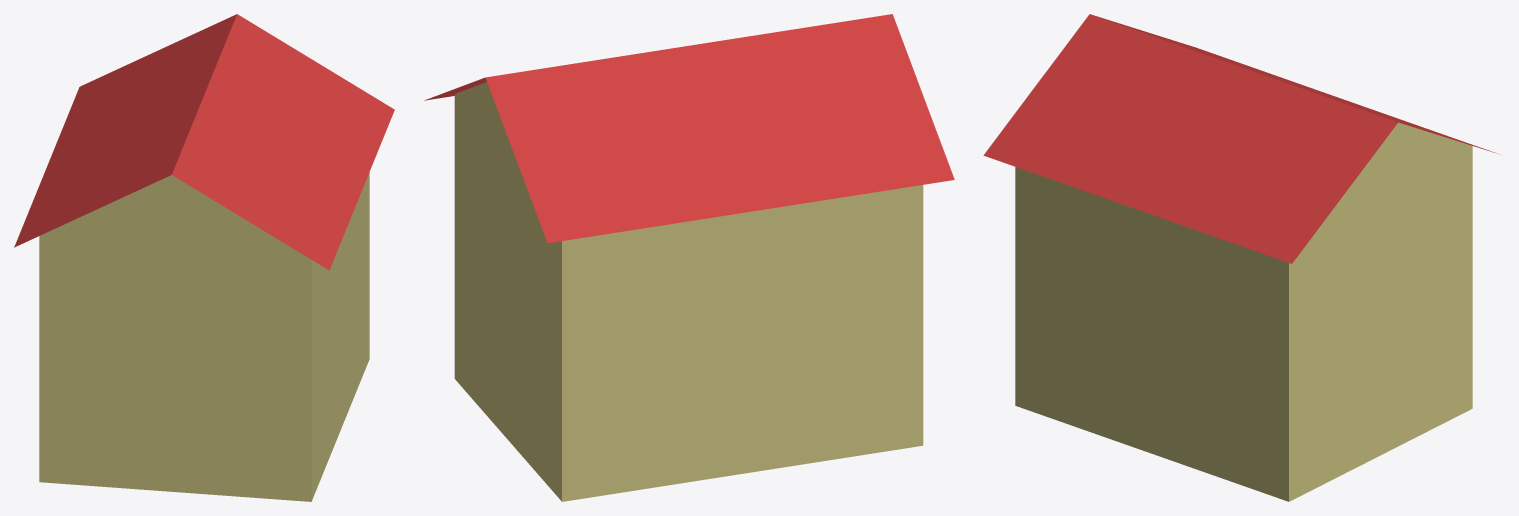
The picture shows the model from 3 angles, left to right: view 1: azimuth 30°, elevation 25°; view 2: azimuth 150°, elevation 25°; view 3: azimuth 270°, elevation 25°; orthographic projection. The views are drawn at different scales.
Parts seen in each view (by area): view 1: group_5, group_3, group_4; view 2: group_5, group_3, group_4; view 3: group_5, group_3, group_4.
Part boxes in pixels (left/top/right/bottom): group_5: left=39, top=172, right=369, bottom=501; group_3: left=39, top=14, right=394, bottom=269; group_4: left=14, top=14, right=352, bottom=270; group_5: left=454, top=82, right=923, bottom=501; group_3: left=463, top=14, right=922, bottom=242; group_4: left=424, top=14, right=954, bottom=243; group_5: left=1015, top=122, right=1472, bottom=501; group_3: left=984, top=16, right=1499, bottom=263; group_4: left=983, top=14, right=1489, bottom=227.
Size of the model in its own units: 16.86 by 17.15 by 12.31.
